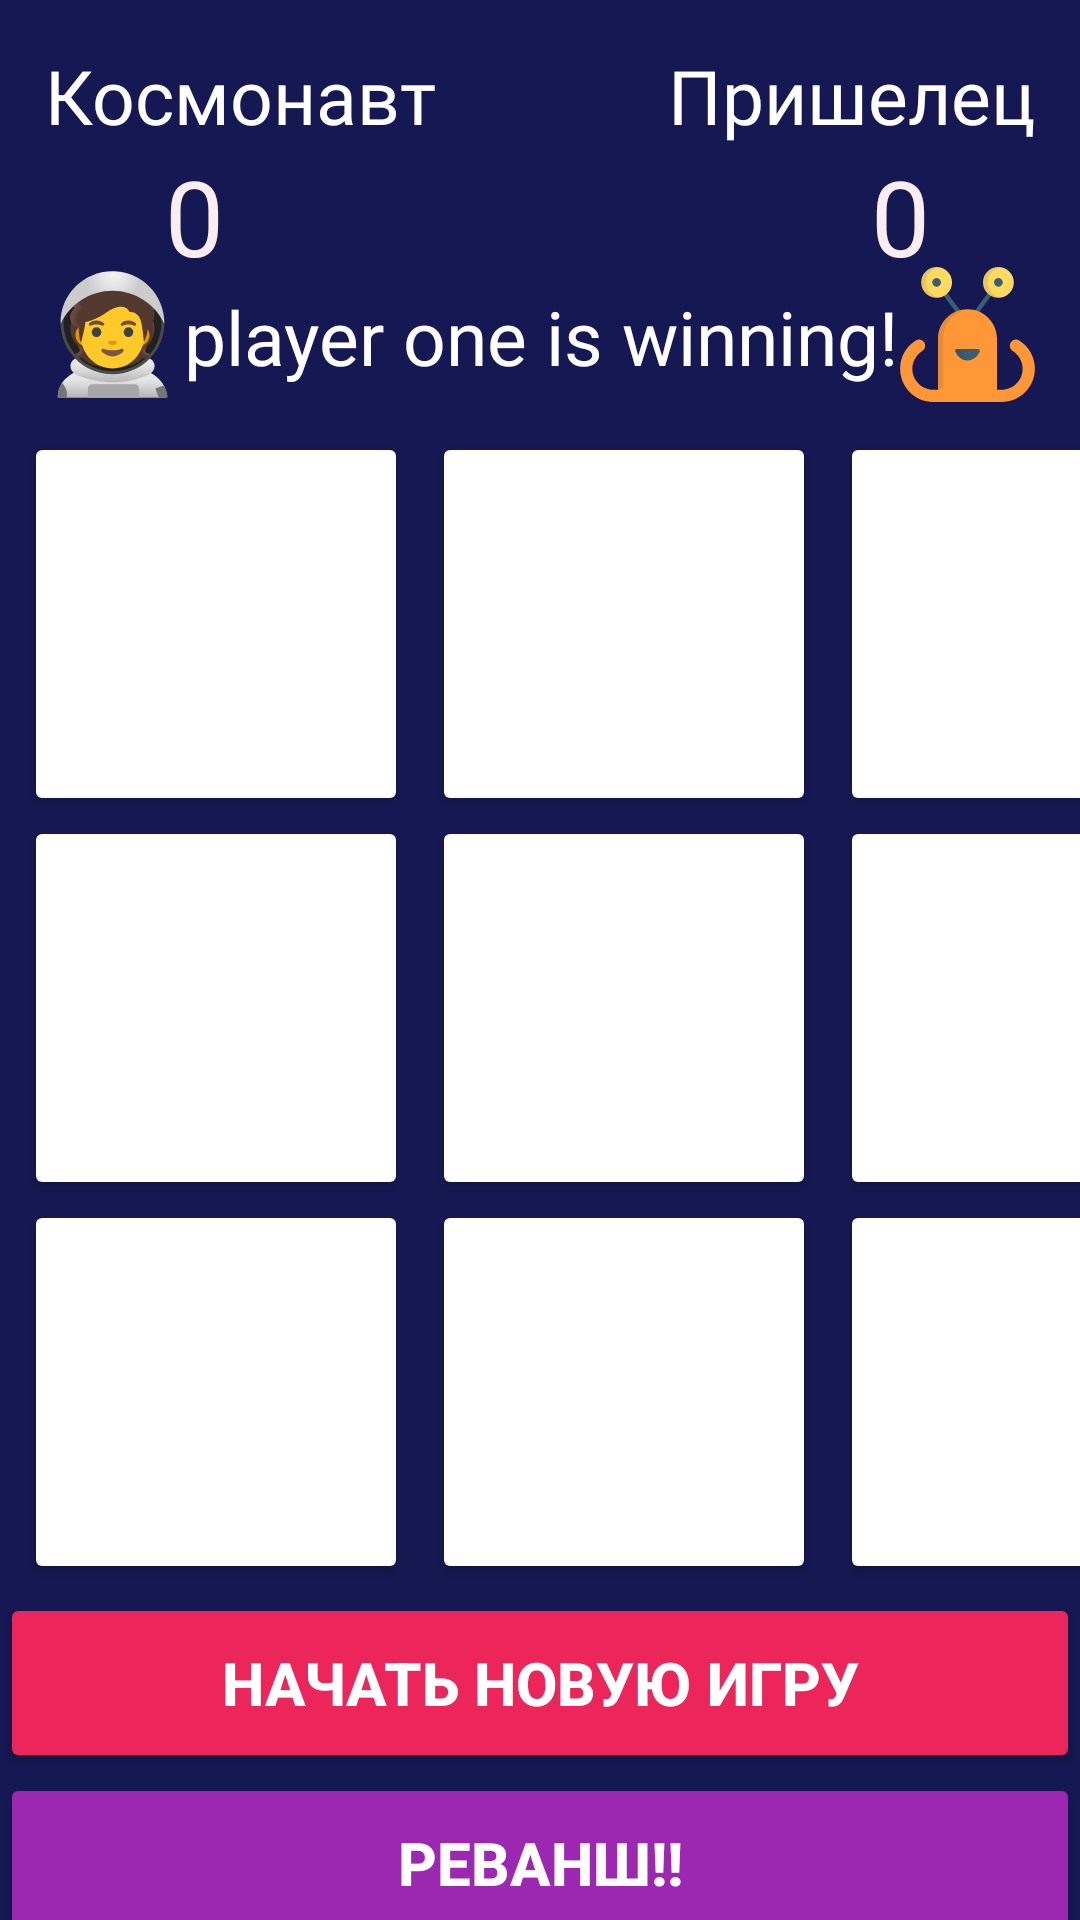

Where icons sit on this 1080 × 1920 app screen, as (x1, y1, x2, y2):
alien: (900, 267, 1035, 402)
